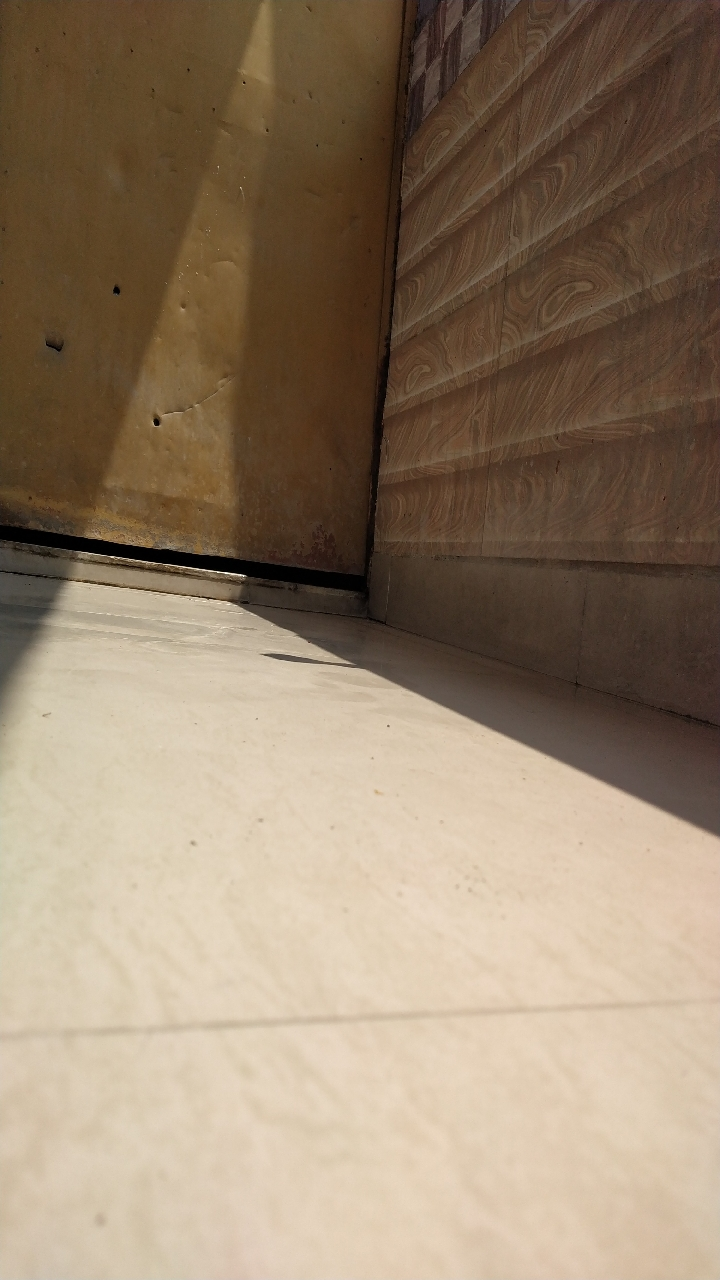Doors: (6, 188, 402, 623)
